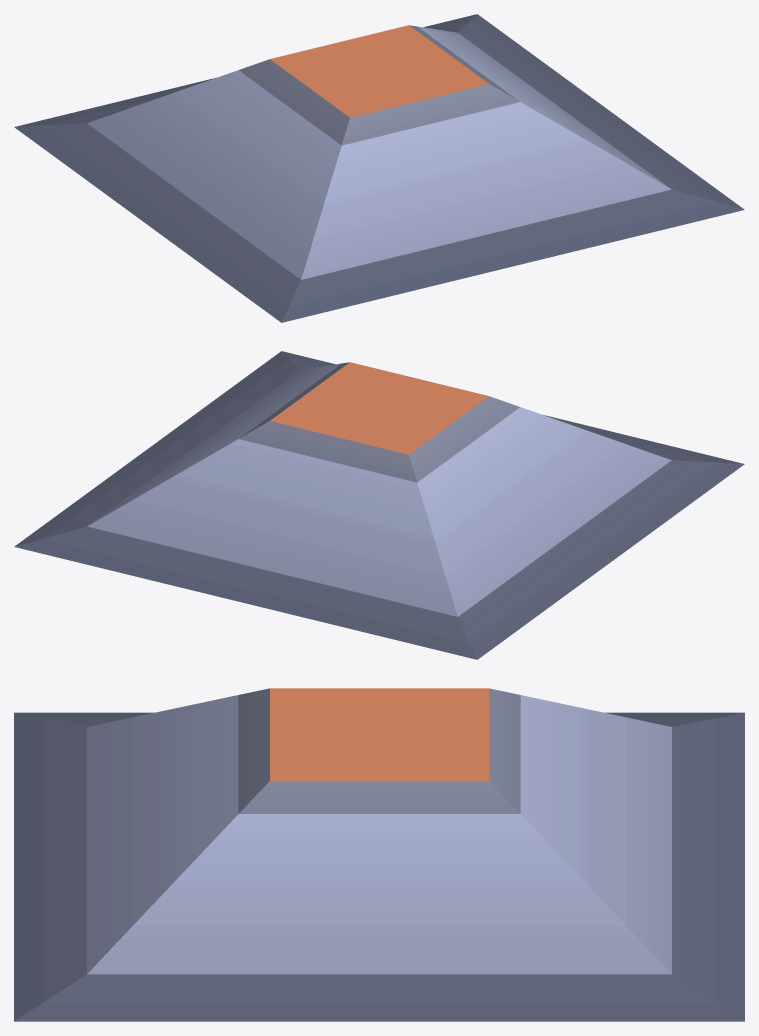
File: obstacle-box.glb
3 views of the same model, one above another, from view 1: azimuth 30°, elevation 25°; view 2: azimuth 150°, elevation 25°; view 3: azimuth 270°, elevation 25° (orthographic). The views are drawn at different scales.
Parts seen in each view (by area): view 1: obstacle-box; view 2: obstacle-box; view 3: obstacle-box.
Boxes of the visible parts, x1,y1,x2,y2 form: obstacle-box: (14,14,744,322); obstacle-box: (14,351,744,659); obstacle-box: (14,688,744,1021).
Size of the model in its own units: 1 by 0.2 by 1.
Materials: 1 (1 with a texture image).
